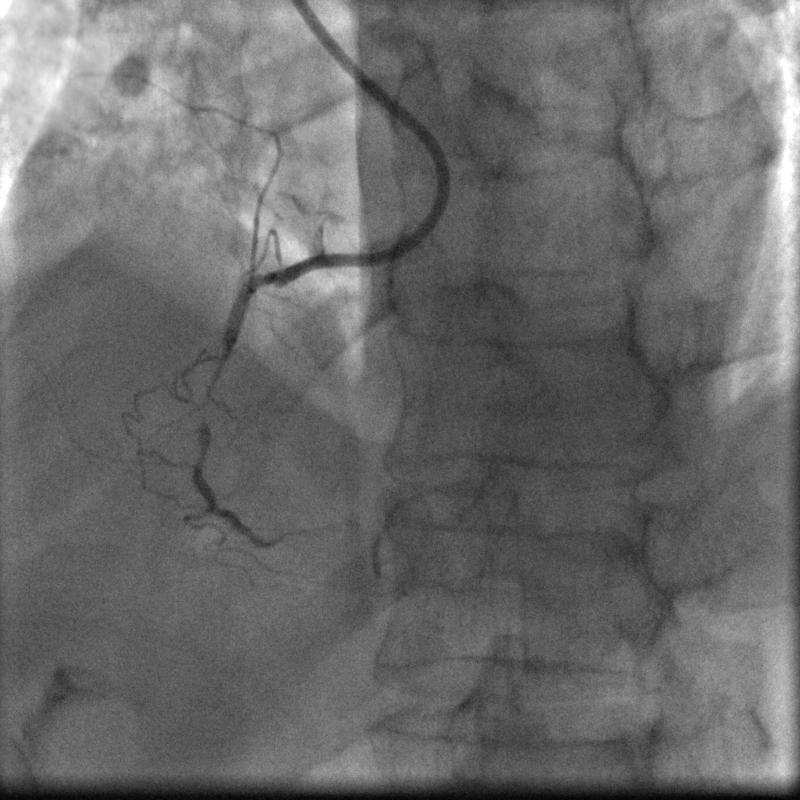Stenosis: (195, 336, 237, 433)
